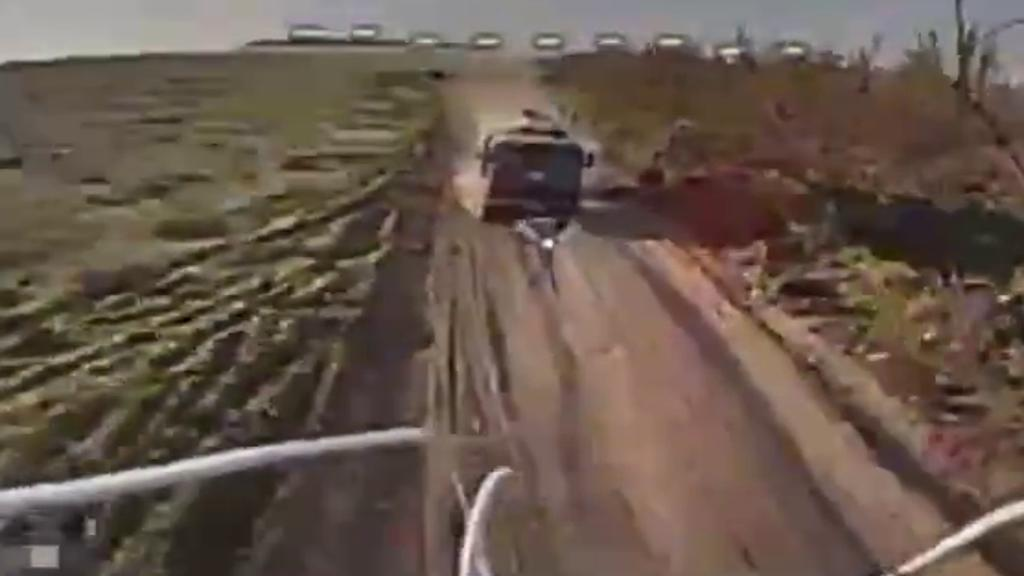TRUCK: (467, 104, 585, 224)
